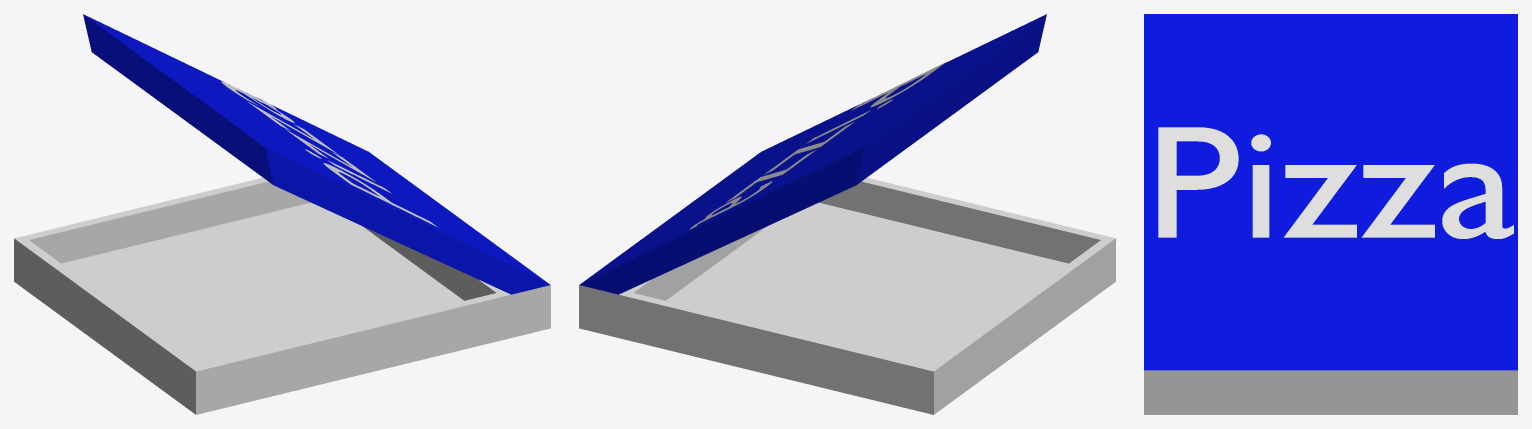
File: Pizza Box.fbx
3 views of the same model, side by side, from view 1: azimuth 30°, elevation 25°; view 2: azimuth 150°, elevation 25°; view 3: azimuth 270°, elevation 25° (orthographic). The views are drawn at different scales.
Parts seen in each view (by area): view 1: Pizza Box; view 2: Pizza Box; view 3: Pizza Box.
Boxes of the visible parts, x1,y1,x2,y2 form: Pizza Box: (14, 14, 550, 414); Pizza Box: (579, 14, 1115, 414); Pizza Box: (1144, 14, 1517, 414).
Size of the model in its own units: 80.39 by 54.36 by 71.45.
